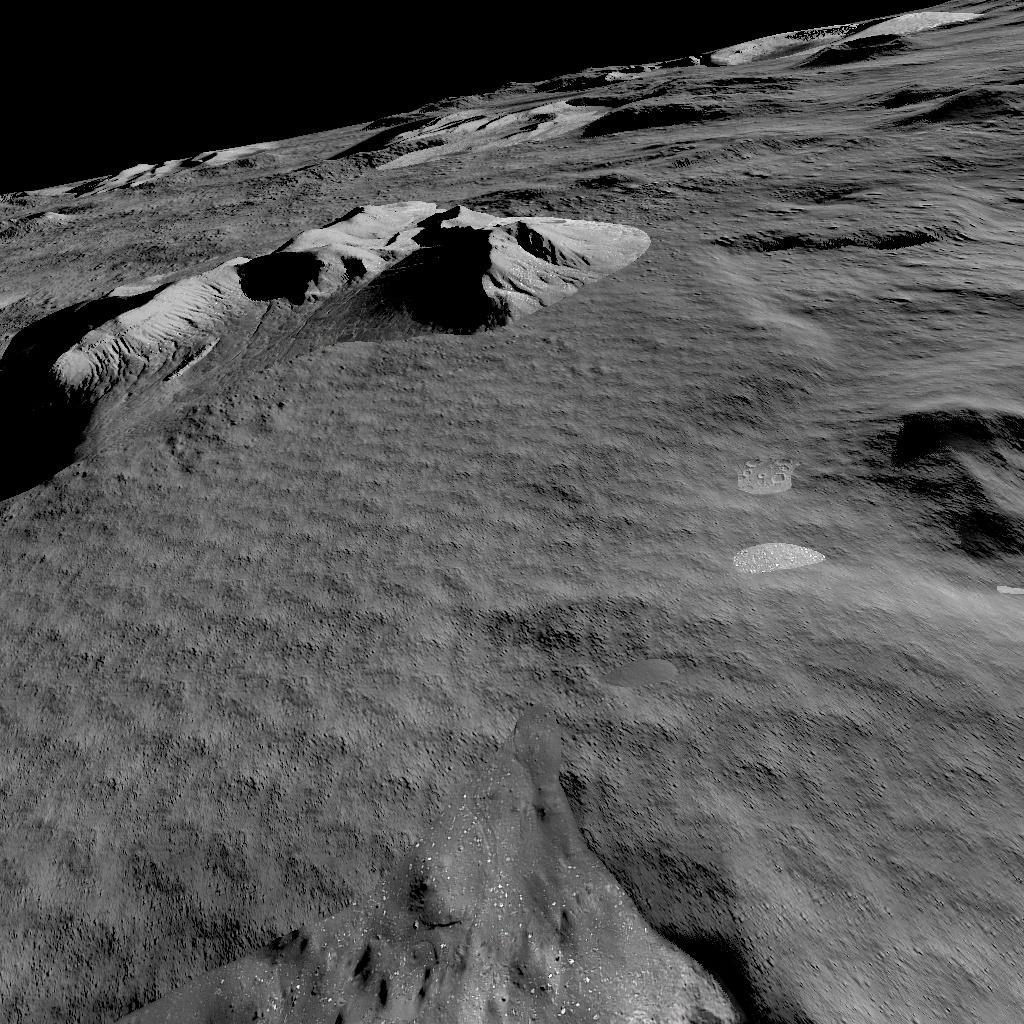Boulders: (0, 202, 653, 498), (331, 0, 1024, 170), (54, 138, 280, 192)
Crater: (0, 835, 1024, 1024), (876, 395, 1024, 565), (718, 220, 950, 260)
Plan surface: (0, 510, 863, 823)
